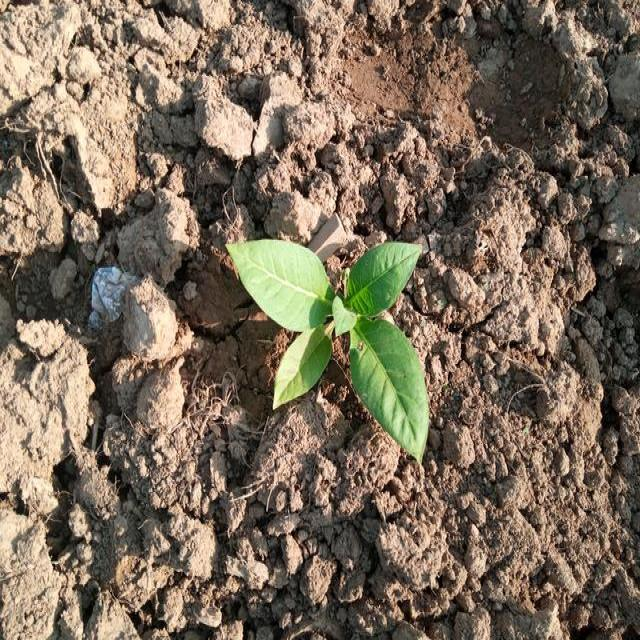crop: (240, 236, 437, 454)
